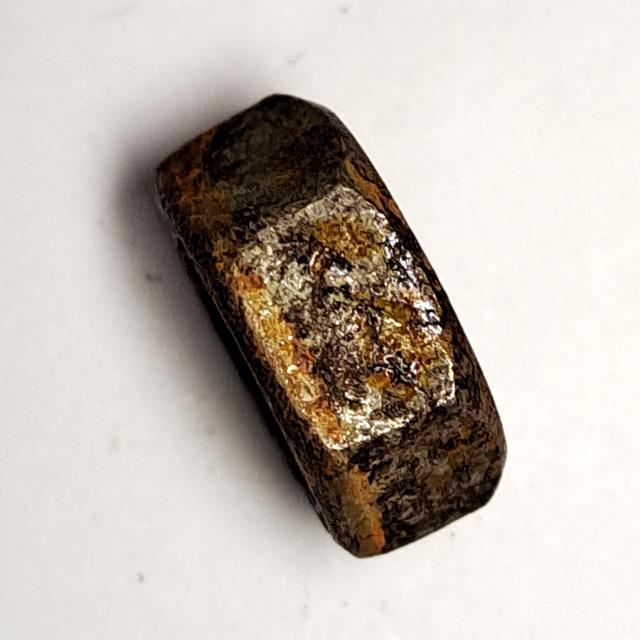Side_Rust: (132, 85, 524, 573)
